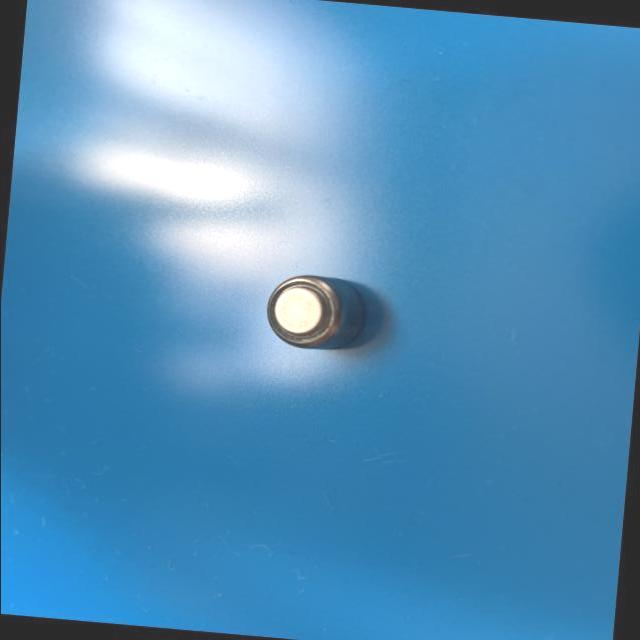COIN: (265, 266, 367, 352)
